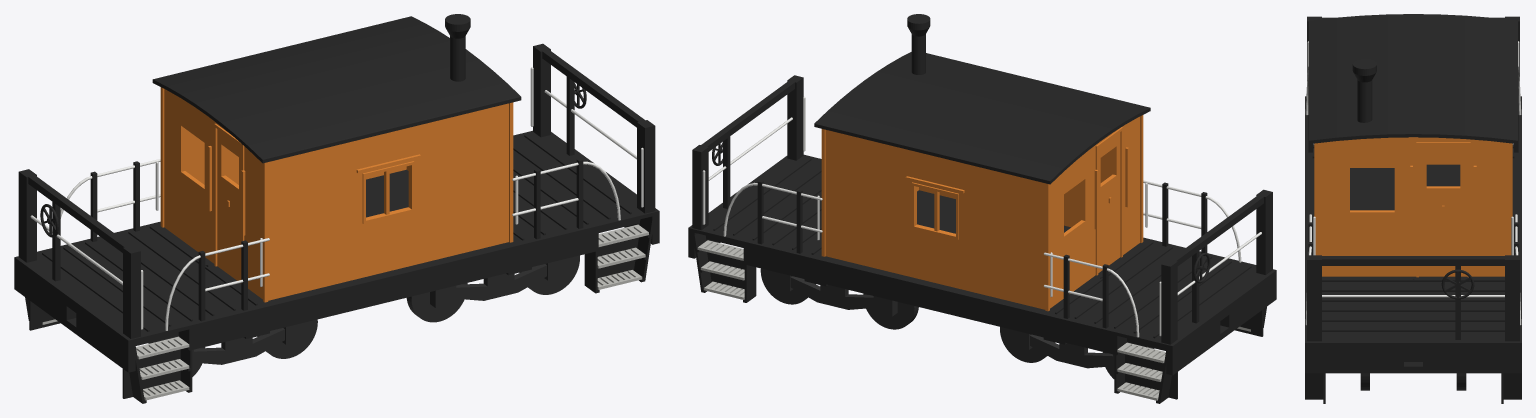
The model's file is MILW_transfer_caboose_01738_G.glb.
The picture shows the model from 3 angles, left to right: view 1: azimuth 30°, elevation 25°; view 2: azimuth 150°, elevation 25°; view 3: azimuth 270°, elevation 25°; orthographic projection. The views are drawn at different scales.
Visible parts, largest first — view 1: black, orange, trucks, rail, tread; view 2: black, orange, trucks, rail, tread; view 3: black, orange, rail, trucks.
Boxes of the visible parts, x1,y1,x2,y2 form: black: (14,14,659,403); orange: (160,87,513,302); trucks: (148,255,579,376); rail: (30,67,643,330); tread: (42,224,648,400); black: (688,14,1276,403); orange: (821,115,1143,311); trucks: (760,268,1154,378); rail: (702,96,1261,337); tread: (697,240,1250,400); black: (1305,14,1521,403); orange: (1314,137,1512,277); rail: (1305,41,1521,325); trucks: (1360,373,1466,390).
Size of the model in its own units: 0.2733 by 0.1454 by 0.1016.
